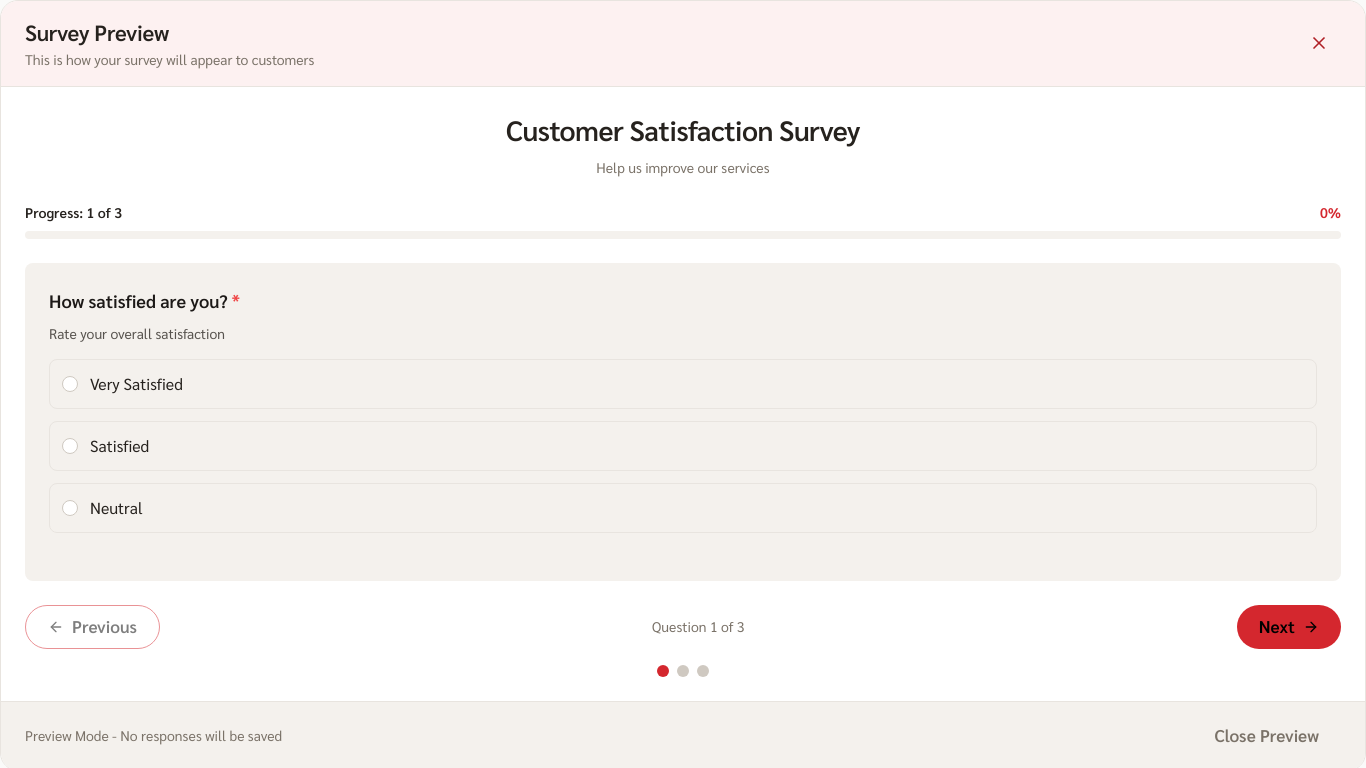
Test: SurveyPreview › Navigation Buttons › should show Complete Survey on last question
Navigate to last question
Click the button "Next".
click(1289, 627)  # box [1237,605,1341,649]
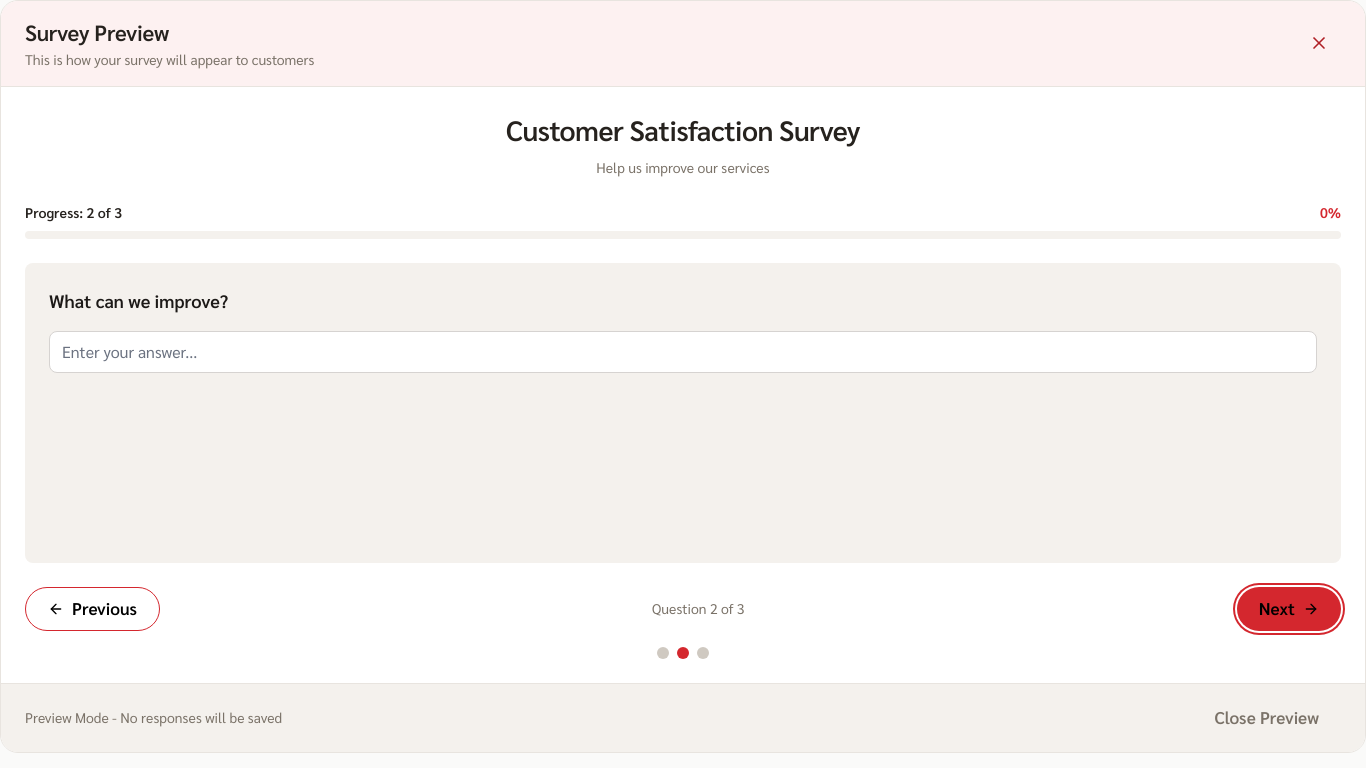
Click the button "Next".
click(1289, 609)  # box [1237,587,1341,631]
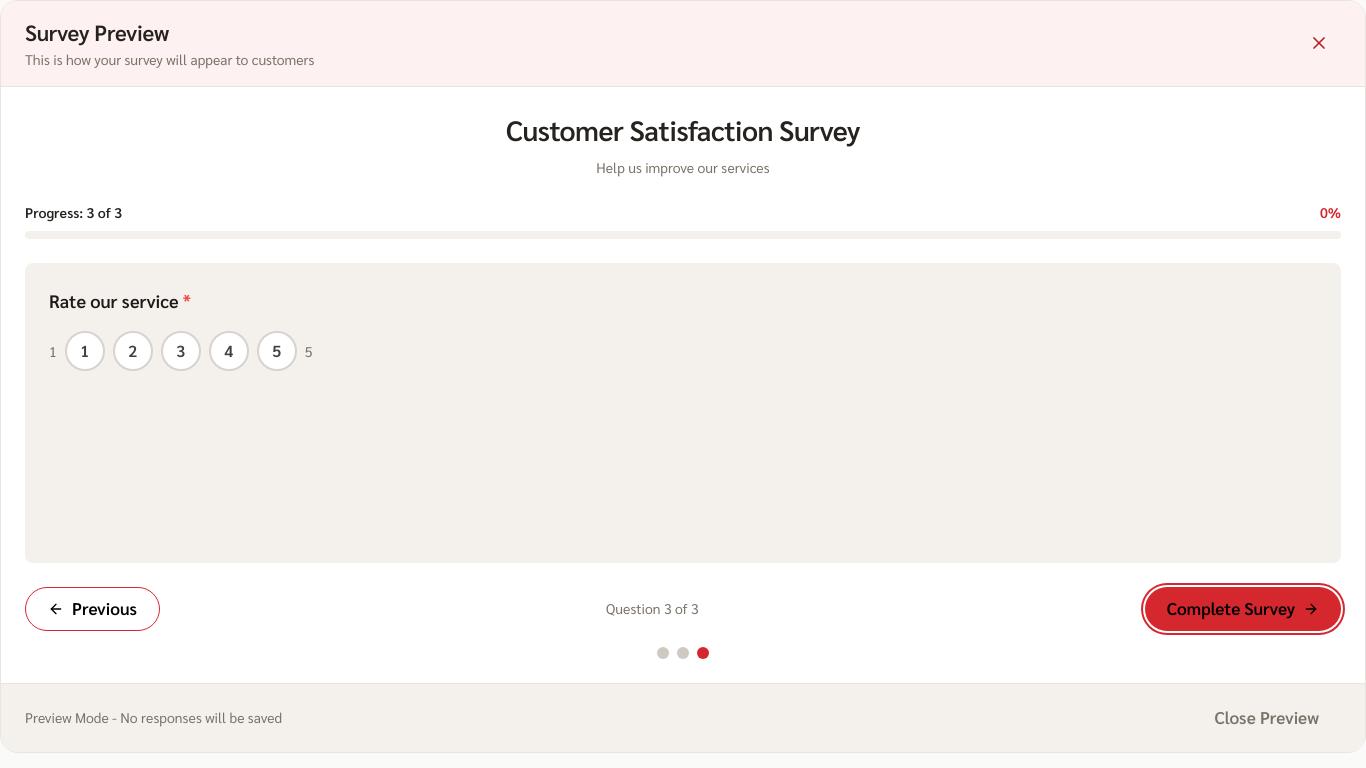
Now the button "Complete Survey" is shown, box [1145,587,1341,631]
